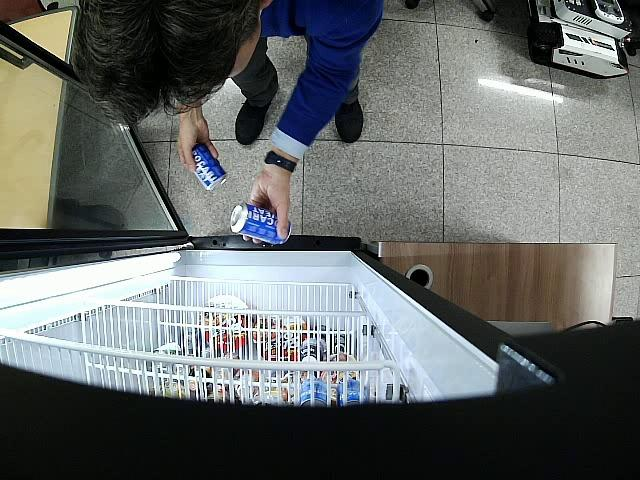00_hand: (243, 169, 291, 243), (178, 114, 219, 175)
13_pocariSweat: (231, 203, 291, 243), (191, 144, 226, 190)
